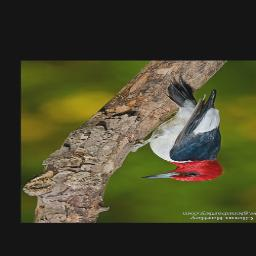Woodpecker: (123, 73, 230, 181)
